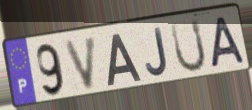9: (35, 41, 67, 98)
A: (210, 14, 248, 70), (106, 31, 143, 88)
J: (144, 26, 170, 79)
U: (169, 18, 208, 75)
V: (63, 33, 99, 92)
